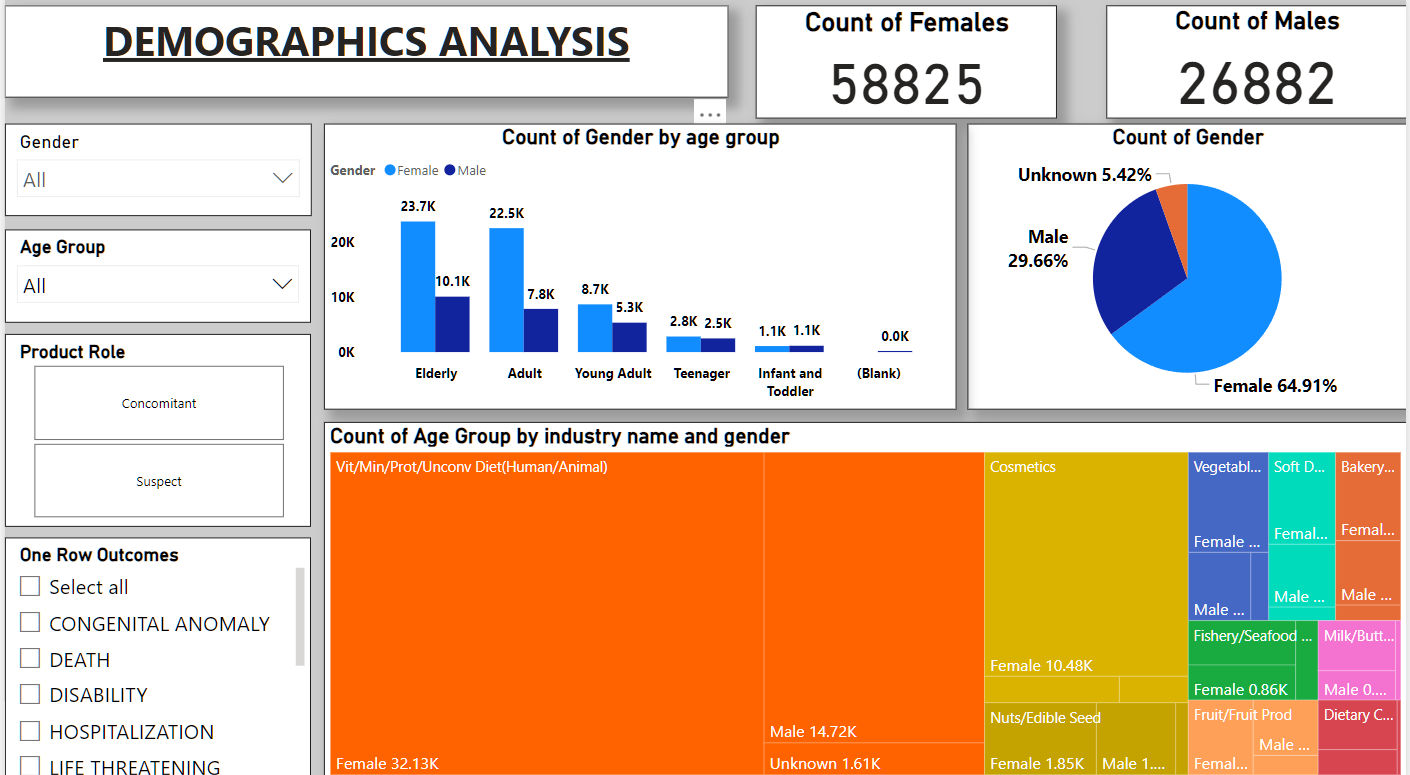

Layout of this report page (visuals, bound fields, positions):
{"tool":"powerbi","page":{"name":"Demographics analysis","canvas":[1280,720],"ordinal":14},"visuals":[{"type":"card","title":"Count of Females","fields":{"Values":["CountNonNull(CAERS_ASCII_2004_2017Q2.CI_Gender)"]},"box":[714.2,1.4,275,105.1],"z":0},{"type":"textbox","box":[12.8,11.4,616.5,84.2],"z":1000},{"type":"card","title":"Count of Males","fields":{"Values":["CountNonNull(CAERS_ASCII_2004_2017Q2.CI_Gender)"]},"box":[1005.1,0,275,105.1],"z":2000},{"type":"pieChart","title":"Count of Gender ","fields":{"Category":["CAERS_ASCII_2004_2017Q2.CI_Gender"],"Y":["CountNonNull(CAERS_ASCII_2004_2017Q2.CI_Gender)"]},"box":[878.4,119.5,401.8,260.6],"z":3000},{"type":"clusteredColumnChart","title":"Count of Gender by age group","fields":{"Category":["CAERS_ASCII_2004_2017Q2.Age Group"],"Y":["CountNonNull(CAERS_ASCII_2004_2017Q2.CI_Gender)"],"Series":["CAERS_ASCII_2004_2017Q2.CI_Gender"]},"box":[290.9,119.5,577.4,260.6],"z":4000},{"type":"slicer","fields":{"Values":["CAERS_ASCII_2004_2017Q2.CI_Gender"]},"box":[0,119.9,279.7,84.2],"z":5000},{"type":"slicer","fields":{"Values":["CAERS_ASCII_2004_2017Q2.Age Group"]},"box":[0,216,279.4,85],"z":6000},{"type":"treemap","title":"Count of Age Group by  industry name and gender","fields":{"Values":["CountNonNull(CAERS_ASCII_2004_2017Q2.Age Group)"],"Group":["CAERS_ASCII_2004_2017Q2.PRI_FDA Industry Name"],"Details":["CAERS_ASCII_2004_2017Q2.CI_Gender"]},"box":[290.9,391.7,989.3,328.3],"z":7000},{"type":"slicer","fields":{"Values":["CAERS_ASCII_2004_2017Q2.PRI_Product Role"]},"box":[0,311,279.4,175.7],"z":8000},{"type":"slicer","fields":{"Values":["CAERS_ASCII_2004_2017Q2.AEC_One Row Outcomes.1"]},"box":[0,496.8,279.4,223.2],"z":9000}]}

Visuals, with their boxes in screenshot pixels (x1, y1, x2, y2), scaled from the page's 1280x720 canvas onto the 1410x775 screenshot:
"Count of Females" card: region(787, 2, 1090, 115)
textbox: region(14, 12, 693, 103)
"Count of Males" card: region(1107, 0, 1409, 113)
"Count of Gender " pieChart: region(968, 129, 1409, 409)
"Count of Gender by age group" clusteredColumnChart: region(320, 129, 956, 409)
slicer - CAERS_ASCII_2004_2017Q2.CI_Gender: region(0, 129, 308, 220)
slicer - CAERS_ASCII_2004_2017Q2.Age Group: region(0, 232, 308, 324)
"Count of Age Group by  industry name and gender" treemap: region(320, 422, 1409, 774)
slicer - CAERS_ASCII_2004_2017Q2.PRI_Product Role: region(0, 335, 308, 524)
slicer - CAERS_ASCII_2004_2017Q2.AEC_One Row Outcomes.1: region(0, 535, 308, 774)
